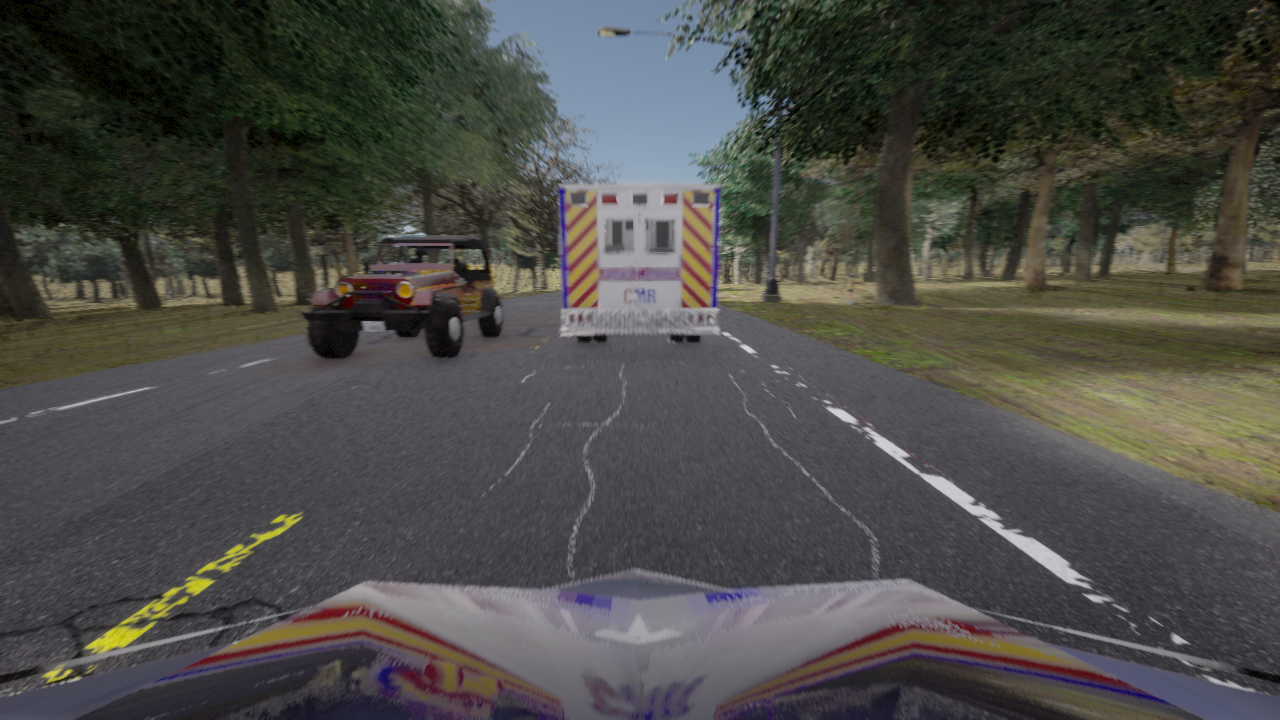cyclist: (0, 569, 1279, 719), (559, 183, 721, 342), (300, 236, 503, 358)
pedestrian: (846, 274, 854, 303)
